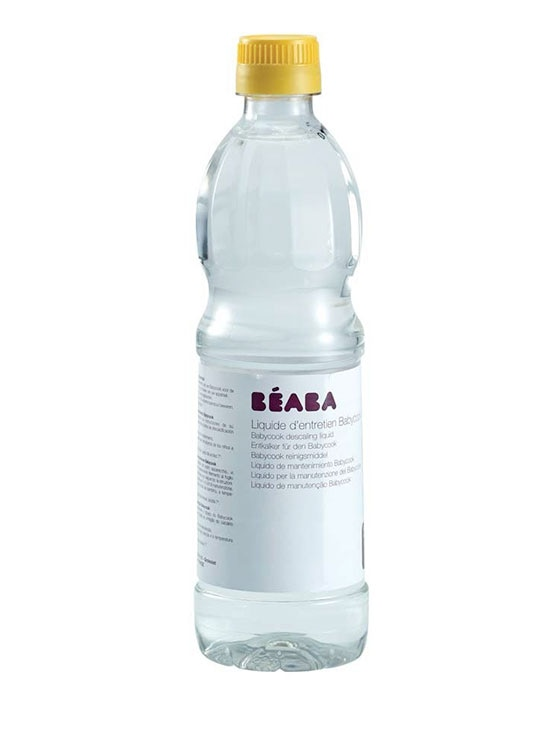Cleaning_solution: (186, 27, 381, 678)
